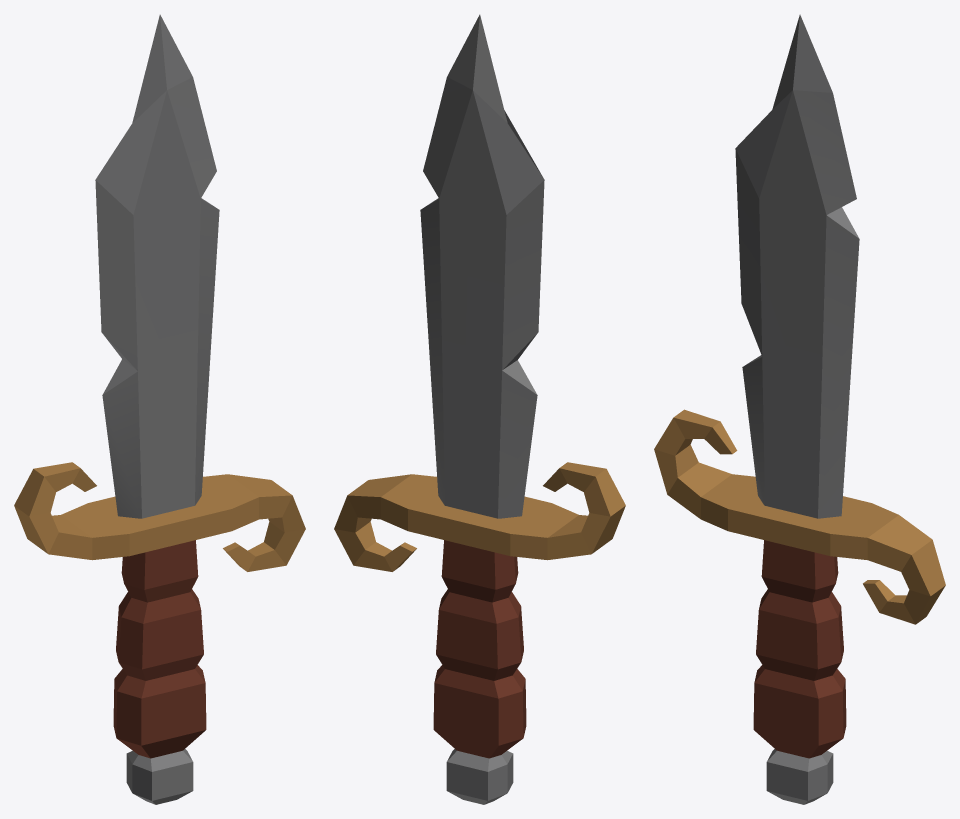
The model's file is SM_Wep_Dagger_01.glb.
The picture shows the model from 3 angles, left to right: view 1: azimuth 30°, elevation 25°; view 2: azimuth 150°, elevation 25°; view 3: azimuth 330°, elevation 25°; orthographic projection.
Parts seen in each view (by area): view 1: SM_Wep_Dagger_01; view 2: SM_Wep_Dagger_01; view 3: SM_Wep_Dagger_01.
Boxes of the visible parts, x1=… form: SM_Wep_Dagger_01: x1=14, y1=14, x2=305, y2=804; SM_Wep_Dagger_01: x1=334, y1=14, x2=625, y2=804; SM_Wep_Dagger_01: x1=654, y1=14, x2=945, y2=804.
Bounding box in the file's own units: 0.00189 × 0.00511 × 0.000496.
